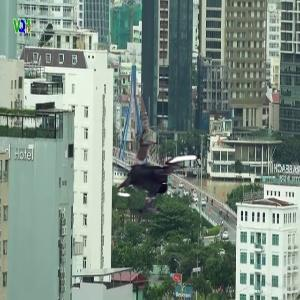drone: (107, 123, 219, 235)
